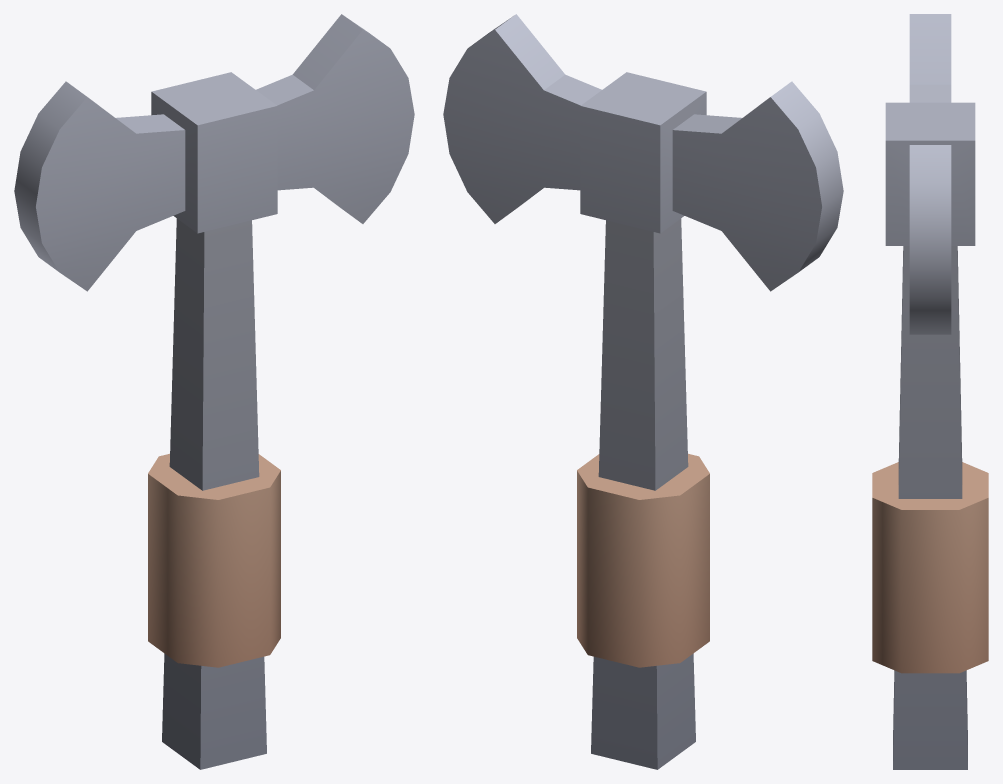
The model's file is tool-axe-upgraded.glb.
3 renders of one model, left to right at view 1: azimuth 30°, elevation 25°; view 2: azimuth 150°, elevation 25°; view 3: azimuth 270°, elevation 25°, orthographic. The views are drawn at different scales.
Parts seen in each view (by area): view 1: tool-axe-upgraded; view 2: tool-axe-upgraded; view 3: tool-axe-upgraded.
Boxes of the visible parts, x1,y1,x2,y2 form: tool-axe-upgraded: (14, 14, 414, 769); tool-axe-upgraded: (443, 14, 843, 769); tool-axe-upgraded: (872, 14, 988, 769).
Size of the model in its own units: 0.1466 by 0.256 by 0.04.
